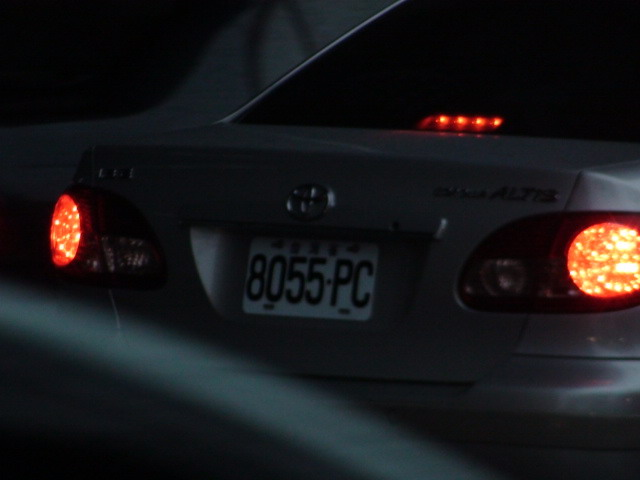plate: (237, 234, 382, 325)
